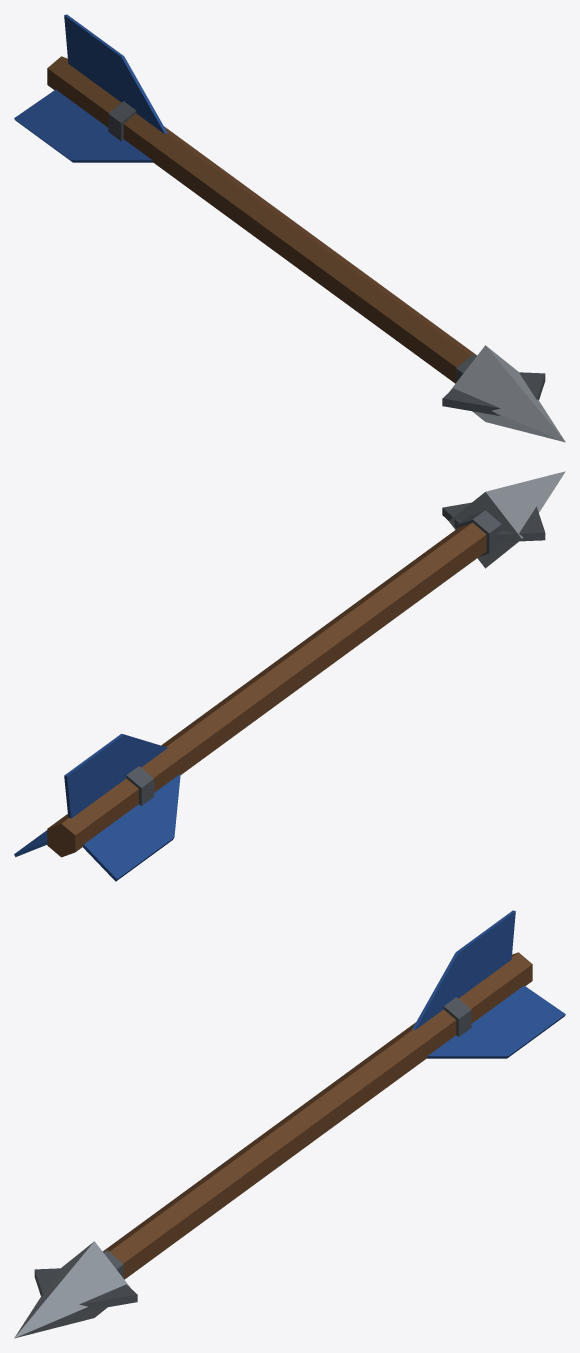
Rendered from ballista_bolt.glb.
3 views of the same model, one above another, from view 1: azimuth 30°, elevation 25°; view 2: azimuth 150°, elevation 25°; view 3: azimuth 330°, elevation 25° (orthographic).
Visible parts, largest first — view 1: BallistaBolt; view 2: BallistaBolt; view 3: BallistaBolt.
Boxes of the visible parts, bbox=[...] form: BallistaBolt: bbox=[14, 14, 565, 442]; BallistaBolt: bbox=[14, 471, 565, 881]; BallistaBolt: bbox=[14, 910, 565, 1338].
Size of the model in its own units: 0.1406 by 0.13 by 1.19.
